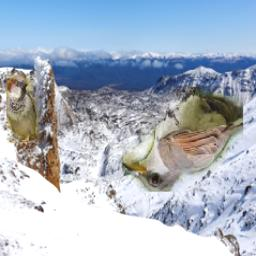Cuckoo: (121, 88, 242, 193)
Sparrow: (5, 76, 39, 144)
